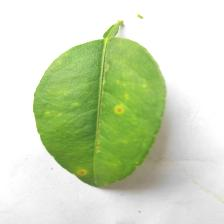greening: (54, 69, 136, 165)
